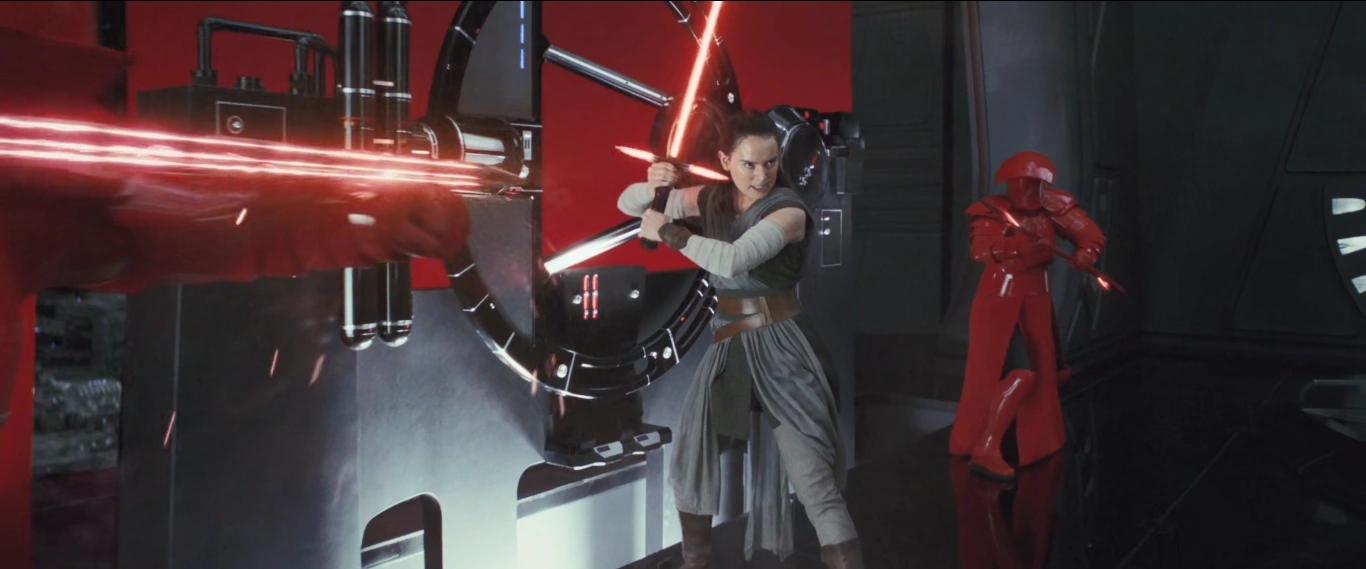cats: (618, 0, 730, 266)
